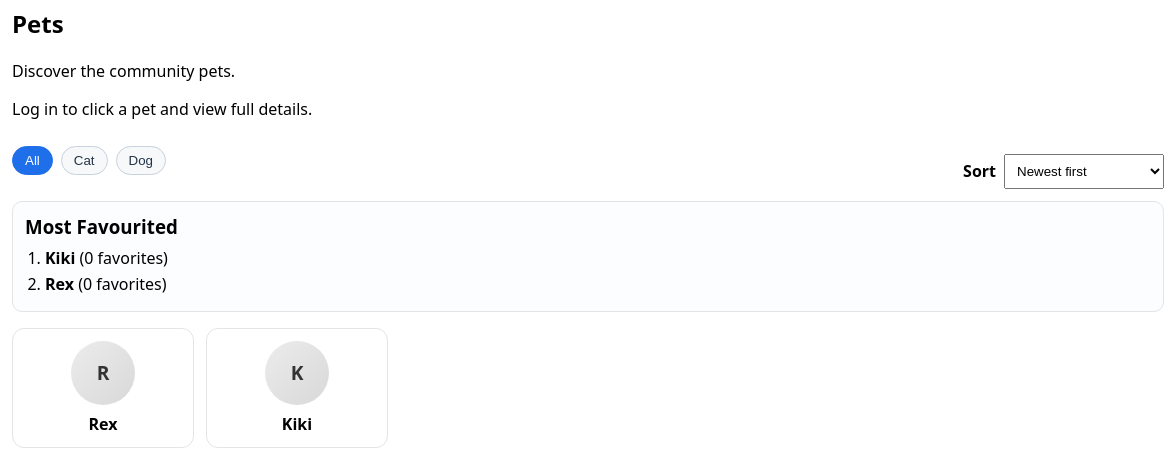
it: Home page › filters pet cards by selected species tag
This screenshot has width=1176, height=465.
Expected: the heading "Kiki" is shown, [282, 413, 312, 435]
Expected: the element showing "R Rex K Kiki" is shown, [12, 328, 388, 448]
Click the button "Cat". click: {"x": 84, "y": 160}
box: [61, 146, 108, 175]
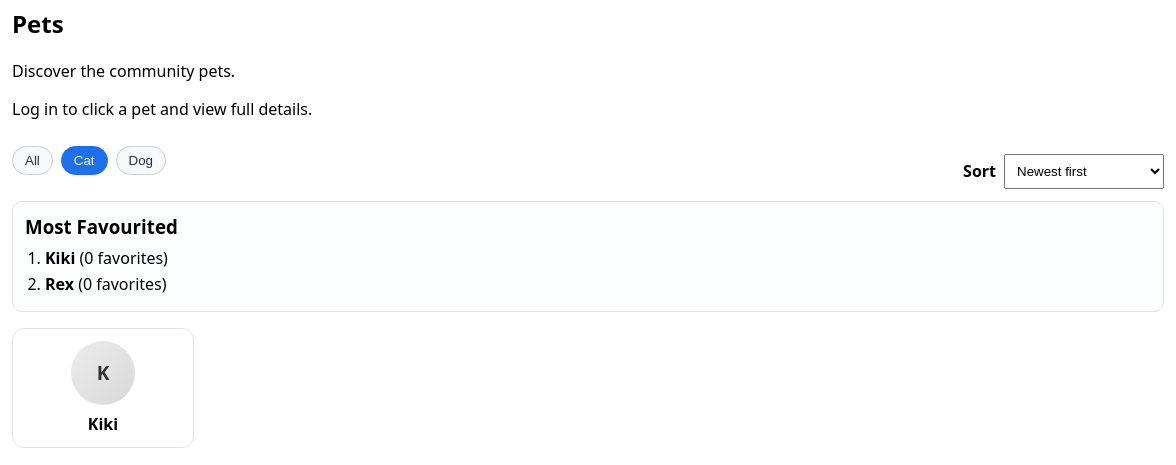
Expected: the heading "Kiki" is shown, [88, 413, 118, 435]
Expected: the element showing "K Kiki" is shown, [12, 328, 194, 448]
Click the button "All". click: {"x": 32, "y": 160}
box: [12, 146, 53, 175]
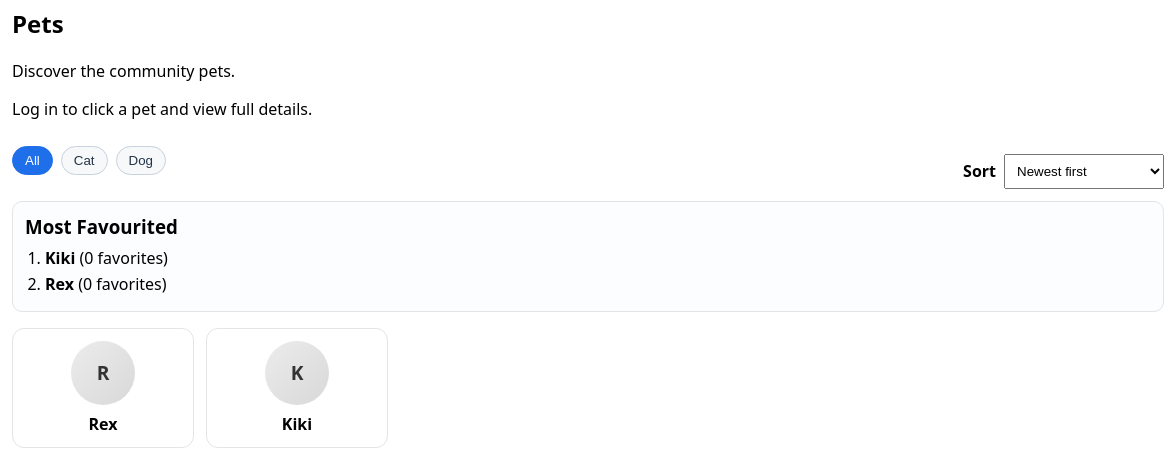
Expected: the element showing "R Rex K Kiki" is shown, [12, 328, 388, 448]
Result: the heading "Rex" is shown at [88, 413, 118, 435]
